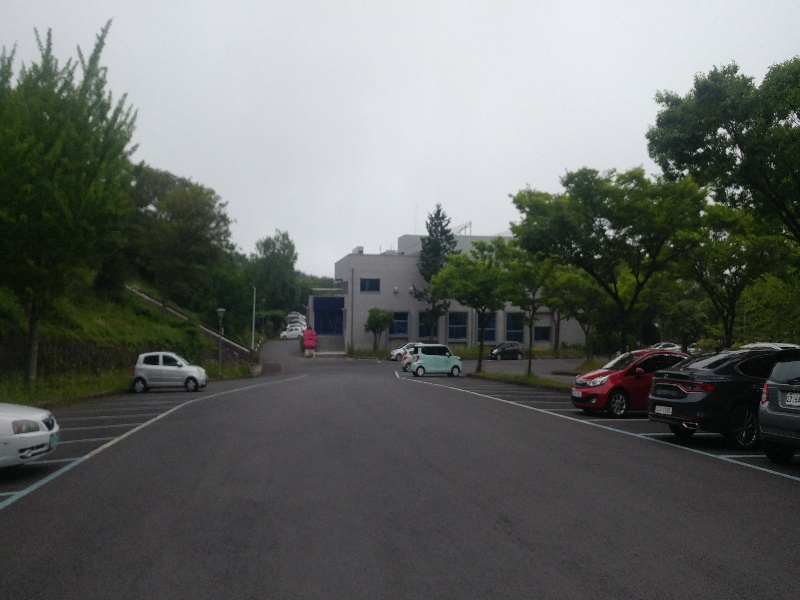College Of Education: (296, 234, 618, 362), (305, 249, 372, 355)
